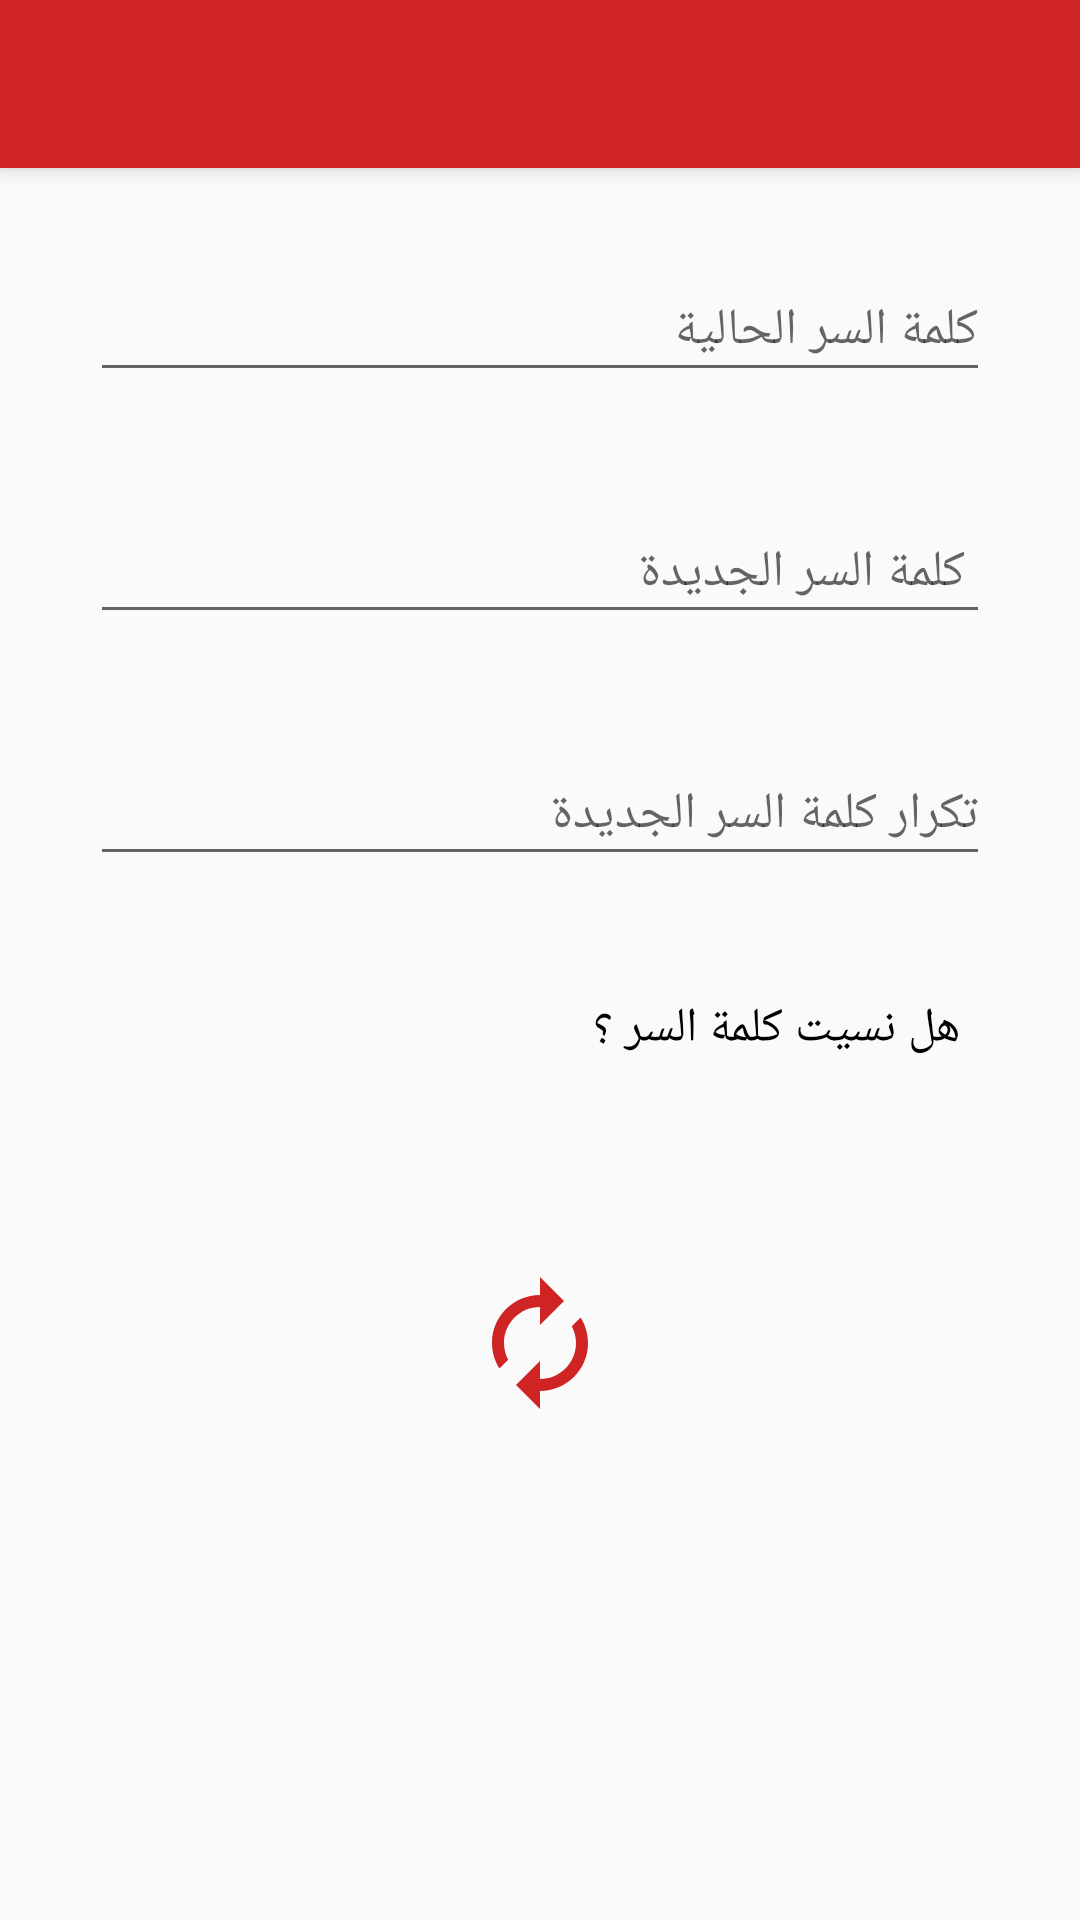

Icon click points for this 1080x1920 phone screenshot, format point (x, y):
change: point (540, 1343)
